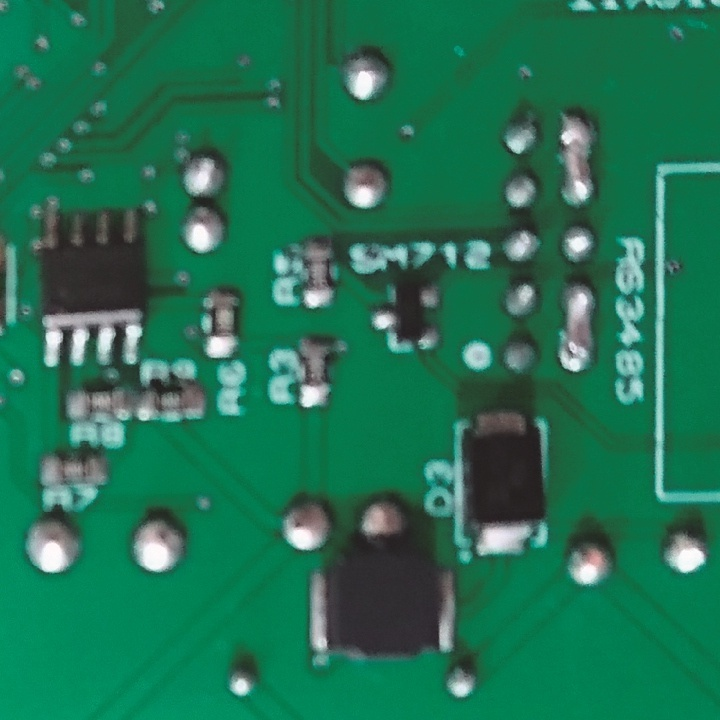P: (557, 112, 596, 209), (561, 275, 596, 378)
